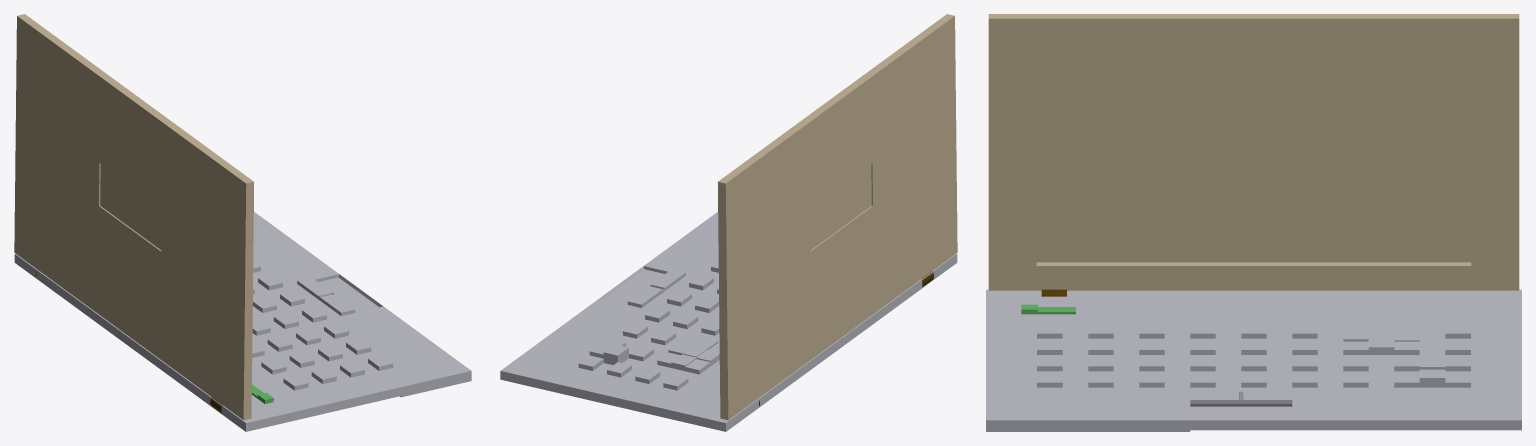
The model's file is NotebookUnwrapped.fbx.
The picture shows the model from 3 angles, left to right: view 1: azimuth 30°, elevation 25°; view 2: azimuth 150°, elevation 25°; view 3: azimuth 270°, elevation 25°; orthographic projection. The views are drawn at different scales.
Visible parts, largest first — view 1: Group01, obj0; view 2: Group01, obj0; view 3: Group01, obj0.
Boxes of the visible parts, x1,y1,x2,y2 form: Group01: (14, 14, 273, 420); obj0: (14, 212, 471, 431); Group01: (717, 14, 957, 420); obj0: (500, 212, 957, 431); Group01: (988, 14, 1519, 314); obj0: (986, 289, 1521, 431).
Bounding box in the file's own units: 5.11 × 5.41 × 9.02.
